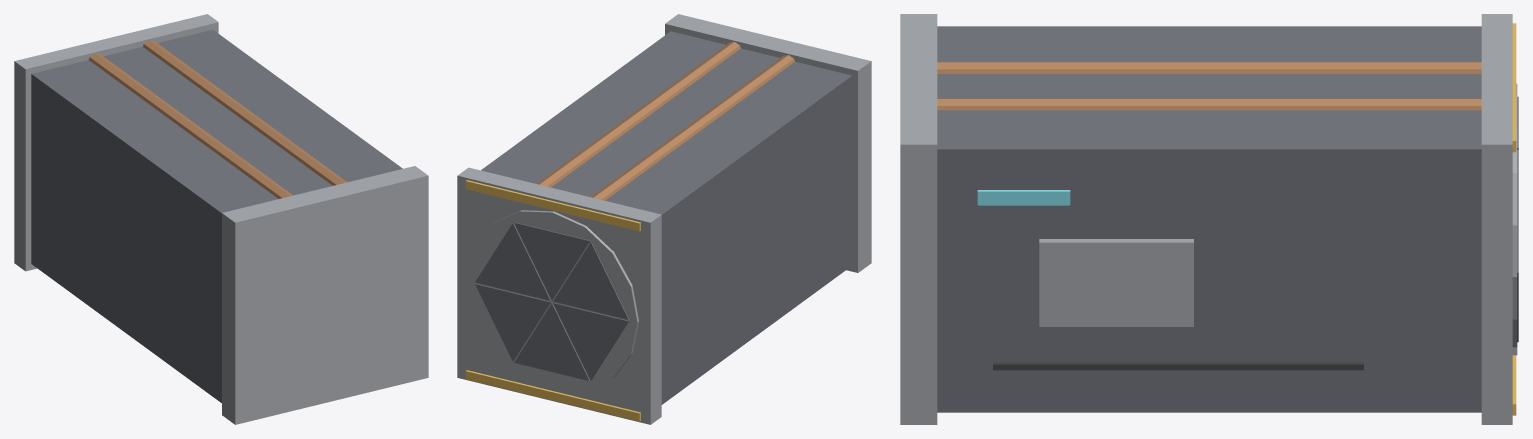
File: bay_tube.glb
3 renders of one model, left to right at view 1: azimuth 30°, elevation 25°; view 2: azimuth 150°, elevation 25°; view 3: azimuth 270°, elevation 25°, orthographic. The views are drawn at different scales.
Parts seen in each view (by area): view 1: object 1; view 2: object 1, door_petal_2, door_petal_5, door_petal_1, door_petal_4, door_petal_3, door_petal_0; view 3: object 1.
Boxes of the visible parts, left/top/right/bottom form: object 1: left=14, top=14, right=428, bottom=424; object 1: left=457, top=14, right=871, bottom=424; door_petal_2: left=553, top=302, right=628, bottom=380; door_petal_5: left=475, top=223, right=550, bottom=300; door_petal_1: left=553, top=242, right=628, bottom=319; door_petal_4: left=475, top=283, right=550, bottom=361; door_petal_3: left=514, top=303, right=589, bottom=380; door_petal_0: left=514, top=222, right=589, bottom=299; object 1: left=900, top=14, right=1517, bottom=424.
Size of the model in its own units: 1 by 1 by 2.
